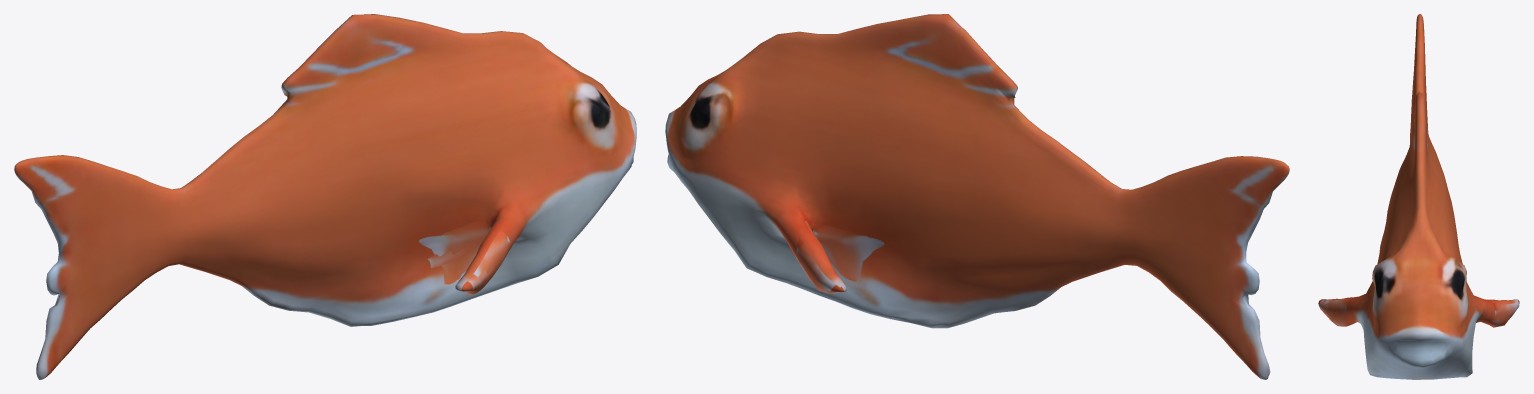
The model's file is fish_05.glb.
3 renders of one model, left to right at view 1: azimuth 30°, elevation 25°; view 2: azimuth 150°, elevation 25°; view 3: azimuth 270°, elevation 25°, orthographic. The views are drawn at different scales.
Parts seen in each view (by area): view 1: mesh; view 2: mesh; view 3: mesh.
Part boxes in pixels (x1,y1,x2,y2): mesh: (14, 14, 636, 379); mesh: (665, 14, 1289, 379); mesh: (1318, 14, 1519, 379).
Bounding box in the file's own units: 0.9945 × 0.4761 × 0.3501.
1 material, 1 textured.
